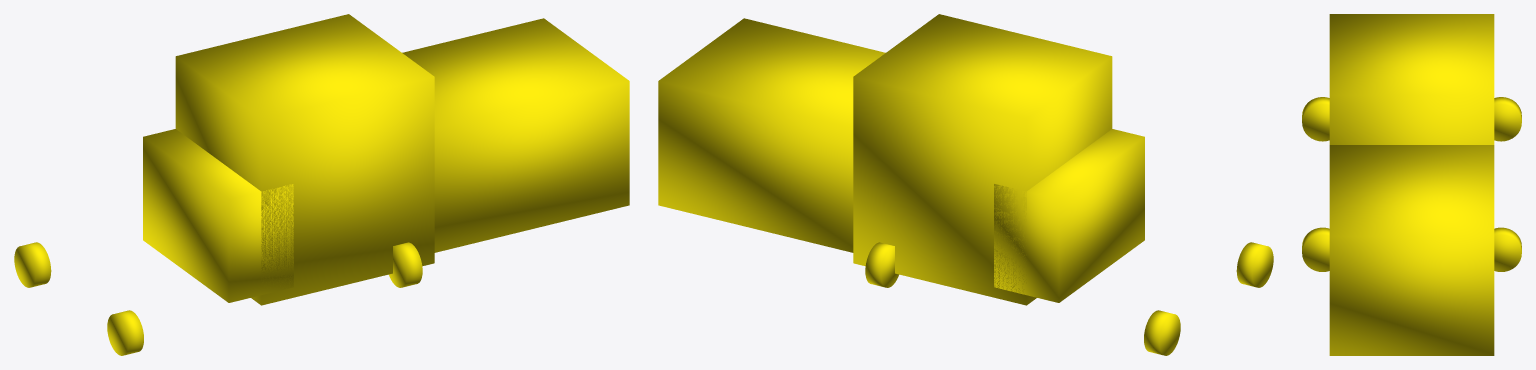
Rendered from Altec_eChipper_Safety_Yellow.glb.
3 renders of one model, left to right at view 1: azimuth 30°, elevation 25°; view 2: azimuth 150°, elevation 25°; view 3: azimuth 270°, elevation 25°, orthographic. The views are drawn at different scales.
Parts seen in each view (by area): view 1: Altec_eChipper; view 2: Altec_eChipper; view 3: Altec_eChipper.
Part boxes in pixels (left/top/right/bottom): Altec_eChipper: left=14, top=14, right=629, bottom=355; Altec_eChipper: left=658, top=14, right=1273, bottom=355; Altec_eChipper: left=1302, top=14, right=1521, bottom=355.
Size of the model in its own units: 8.32 by 3.04 by 3.2.
